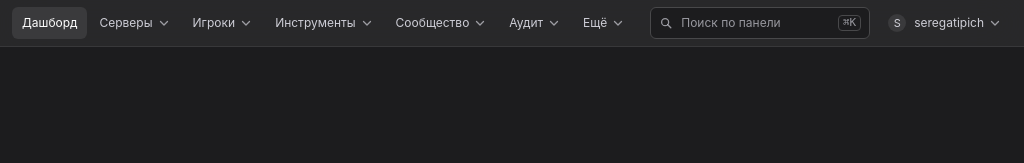
Test: TopNav › puts the account, tokens and logout behind the user menu
Expected: the menu item "Аккаунт" is not shown
What coordinates should you click on to do the following:
click the button with aria-label "Меню пользователя"
I would click on:
 (945, 23)
Its box is x1=878 y1=7 x2=1012 y2=39.
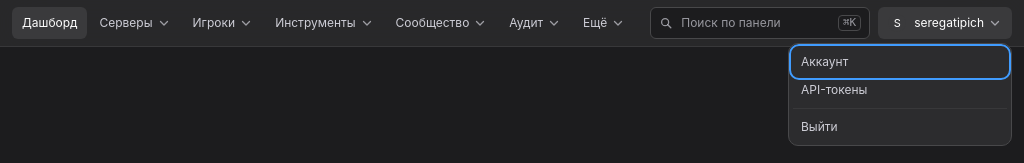
Result: the menu item "Выйти" is shown at x1=793 y1=113 x2=1007 y2=141
